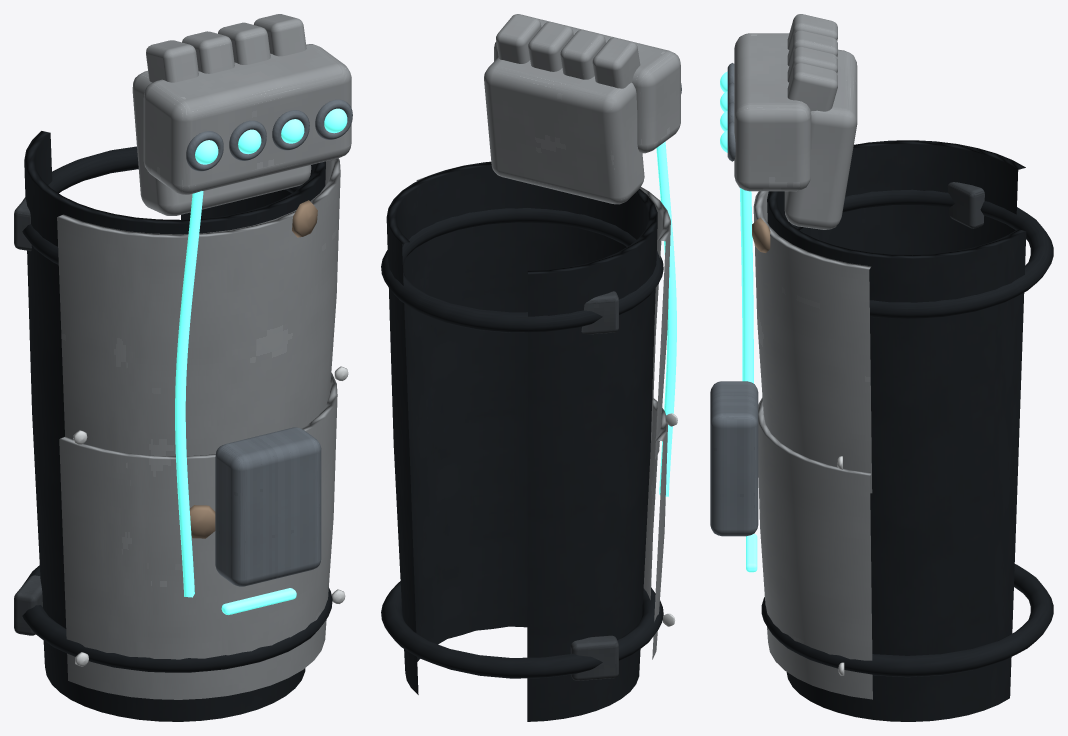
File: energy-gauntlet.lod1.glb
The picture shows the model from 3 angles, left to right: view 1: azimuth 30°, elevation 25°; view 2: azimuth 150°, elevation 25°; view 3: azimuth 270°, elevation 25°; orthographic projection. The views are drawn at different scales.
Visible parts, largest first — view 1: ceramic / ceramic composite panel, polymer / stippled polymer, alloy / machined anodized alloy, energy / emissive field channel, darksteel / oil-blackened fittings, glaze bead, edge / honed bright bevel; view 2: polymer / stippled polymer, ceramic / ceramic composite panel, darksteel / oil-blackened fittings, energy / emissive field channel; view 3: polymer / stippled polymer, ceramic / ceramic composite panel, alloy / machined anodized alloy, energy / emissive field channel, darksteel / oil-blackened fittings.
Part boxes in pixels (bbox=[...]): ceramic / ceramic composite panel: bbox=[57, 14, 351, 699]; polymer / stippled polymer: bbox=[22, 131, 332, 721]; alloy / machined anodized alloy: bbox=[186, 99, 352, 586]; energy / emissive field channel: bbox=[175, 108, 347, 614]; darksteel / oil-blackened fittings: bbox=[14, 198, 42, 635]; glaze bead: bbox=[189, 200, 317, 538]; edge / honed bright bevel: bbox=[73, 366, 348, 666]; polymer / stippled polymer: bbox=[381, 161, 663, 721]; ceramic / ceramic composite panel: bbox=[416, 14, 680, 659]; darksteel / oil-blackened fittings: bbox=[570, 291, 618, 680]; energy / emissive field channel: bbox=[656, 141, 676, 496]; polymer / stippled polymer: bbox=[761, 140, 1053, 721]; ceramic / ceramic composite panel: bbox=[734, 14, 872, 699]; alloy / machined anodized alloy: bbox=[710, 63, 758, 536]; energy / emissive field channel: bbox=[720, 71, 757, 572]; darksteel / oil-blackened fittings: bbox=[947, 182, 984, 228].
Size of the model in its own units: 0.155 by 0.3597 by 0.1784.
Materials: 8 (5 with a texture image).
